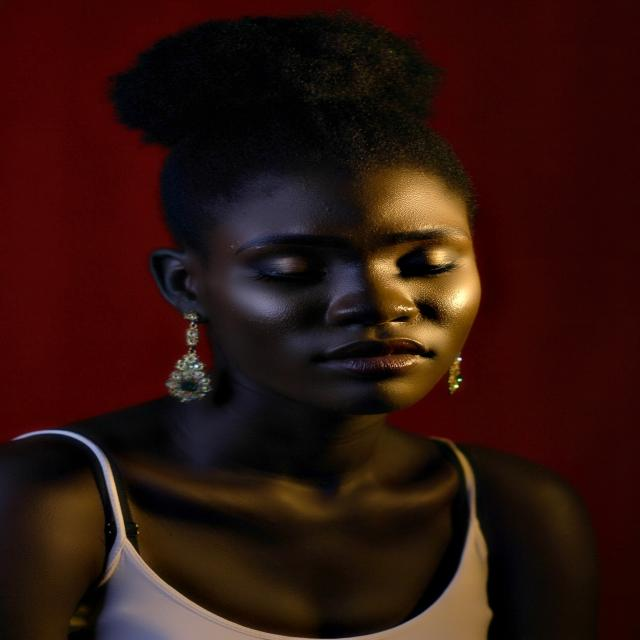adult: (0, 18, 603, 640)
